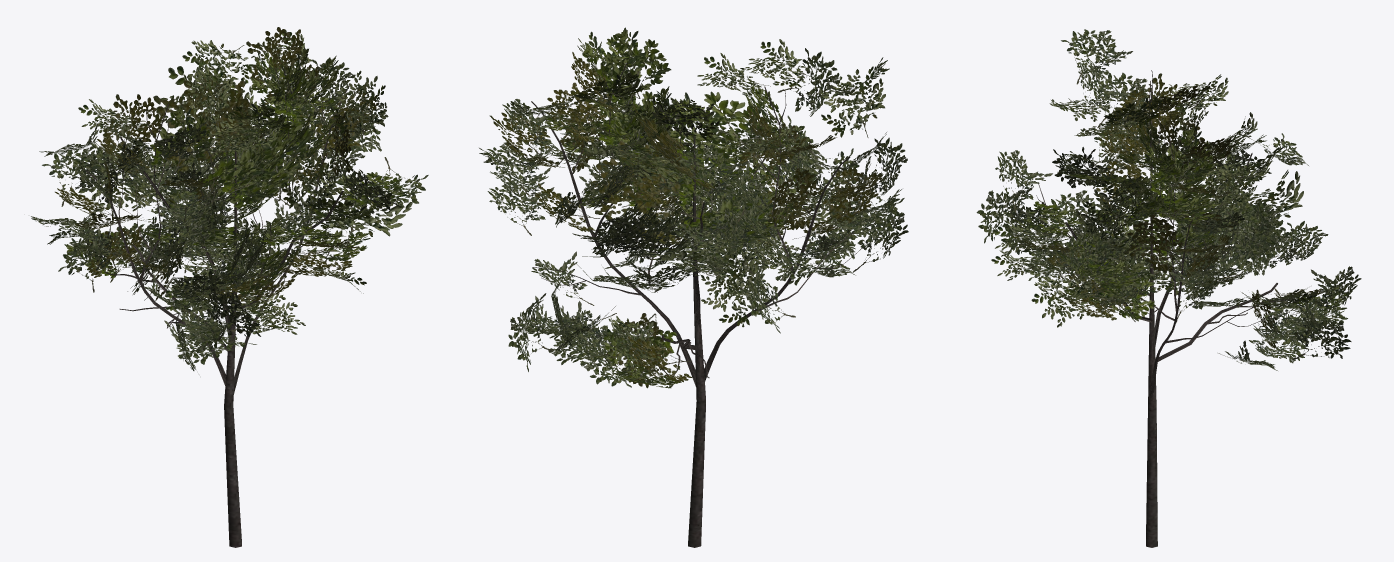
Rendered from listva1.obj.
3 renders of one model, left to right at view 1: azimuth 30°, elevation 25°; view 2: azimuth 150°, elevation 25°; view 3: azimuth 270°, elevation 25°, orthographic. The views are drawn at different scales.
Parts seen in each view (by area): view 1: Listvennie_green1; view 2: Listvennie_green1; view 3: Listvennie_green1.
Part boxes in pixels (box(x1,y1,x2,y2)): Listvennie_green1: box(31, 27, 428, 547); Listvennie_green1: box(479, 27, 908, 547); Listvennie_green1: box(976, 29, 1361, 547).
Size of the model in its own units: 731 by 853 by 707.
